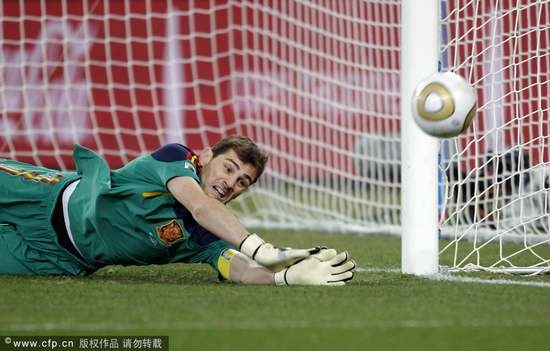falling: (6, 125, 355, 292)
